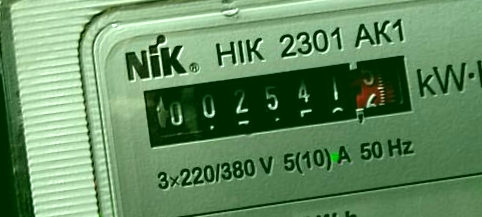0: (197, 87, 220, 122), (167, 97, 187, 128)
1: (323, 69, 343, 103)
2: (227, 82, 252, 118)
4: (293, 73, 313, 106)
5: (261, 80, 281, 114)
6: (361, 88, 380, 111)
screen: (126, 38, 435, 164)
